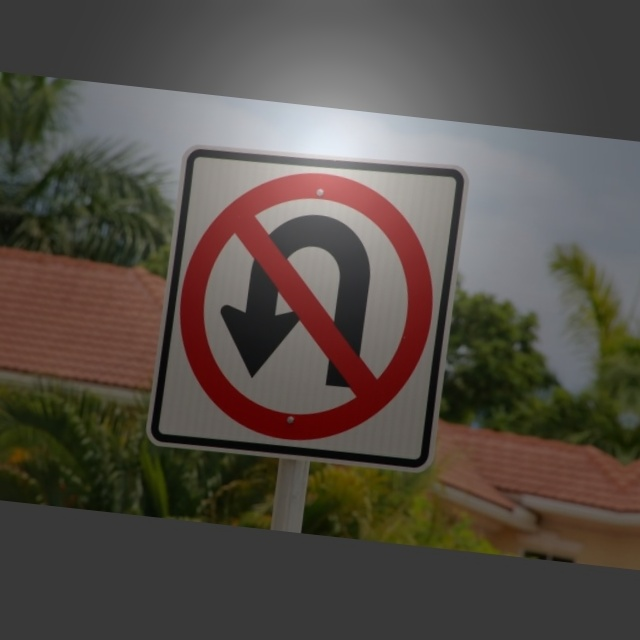U_Turn_Prohibited: (166, 152, 455, 459)
